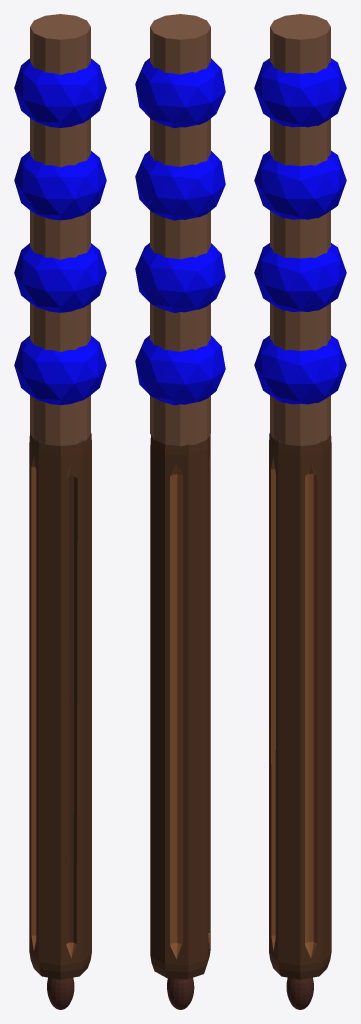
File: Wand 536.glb
The picture shows the model from 3 angles, left to right: view 1: azimuth 90°, elevation 25°; view 2: azimuth 150°, elevation 25°; view 3: azimuth 270°, elevation 25°; orthographic projection.
Parts seen in each view (by area): view 1: GeneratedWand; view 2: GeneratedWand; view 3: GeneratedWand.
Boxes of the visible parts, left/top/right/bottom form: GeneratedWand: left=14, top=14, right=106, bottom=1009; GeneratedWand: left=135, top=14, right=225, bottom=1009; GeneratedWand: left=254, top=14, right=346, bottom=1009.
Bounding box in the file's own units: 0.0407 × 0.5016 × 0.0428.
